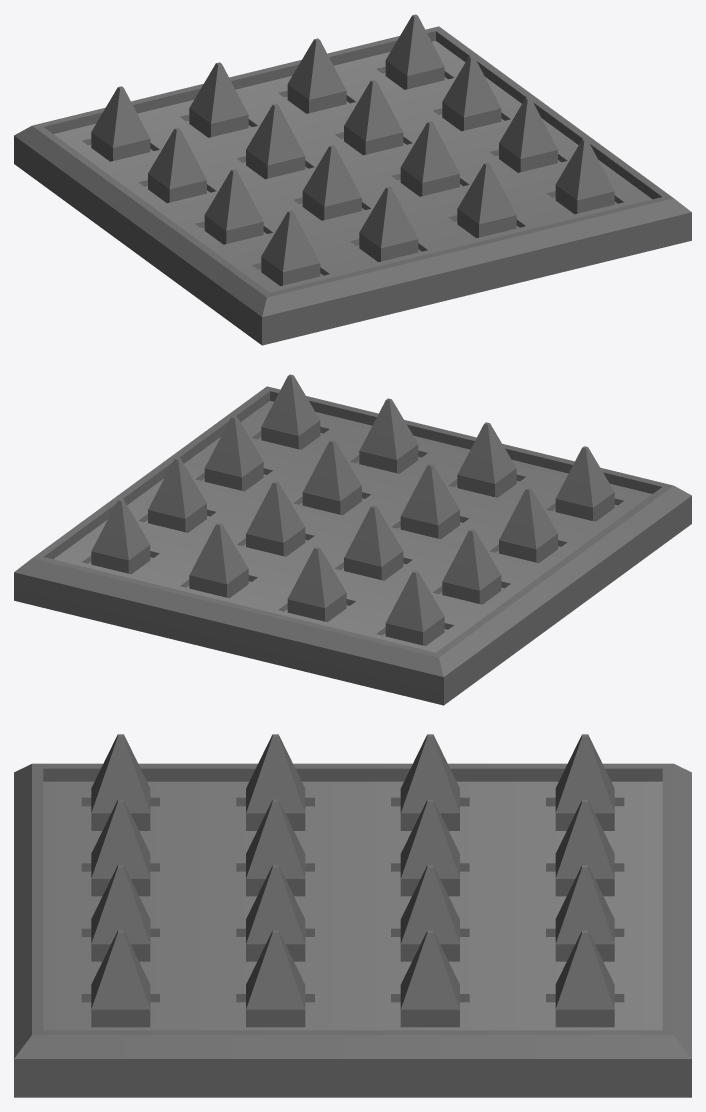
The model's file is Ground_Thorn_Trap_4.fbx.
The picture shows the model from 3 angles, top to bottom: view 1: azimuth 30°, elevation 25°; view 2: azimuth 150°, elevation 25°; view 3: azimuth 270°, elevation 25°; orthographic projection. The views are drawn at different scales.
Visible parts, largest first — view 1: Ground_Thorn_Trap_4, Ground_Thorn_Trap_4_Thorns; view 2: Ground_Thorn_Trap_4, Ground_Thorn_Trap_4_Thorns; view 3: Ground_Thorn_Trap_4, Ground_Thorn_Trap_4_Thorns.
Boxes of the visible parts, x1=… form: Ground_Thorn_Trap_4: x1=14, y1=26, x2=691, y2=345; Ground_Thorn_Trap_4_Thorns: x1=91, y1=14, x2=614, y2=285; Ground_Thorn_Trap_4: x1=14, y1=386, x2=691, y2=705; Ground_Thorn_Trap_4_Thorns: x1=91, y1=374, x2=614, y2=645; Ground_Thorn_Trap_4: x1=14, y1=763, x2=691, y2=1097; Ground_Thorn_Trap_4_Thorns: x1=91, y1=734, x2=614, y2=1027.
Bounding box in the file's own units: 77.88 × 15.33 × 77.88.
Materials: 1 (1 with a texture image).
